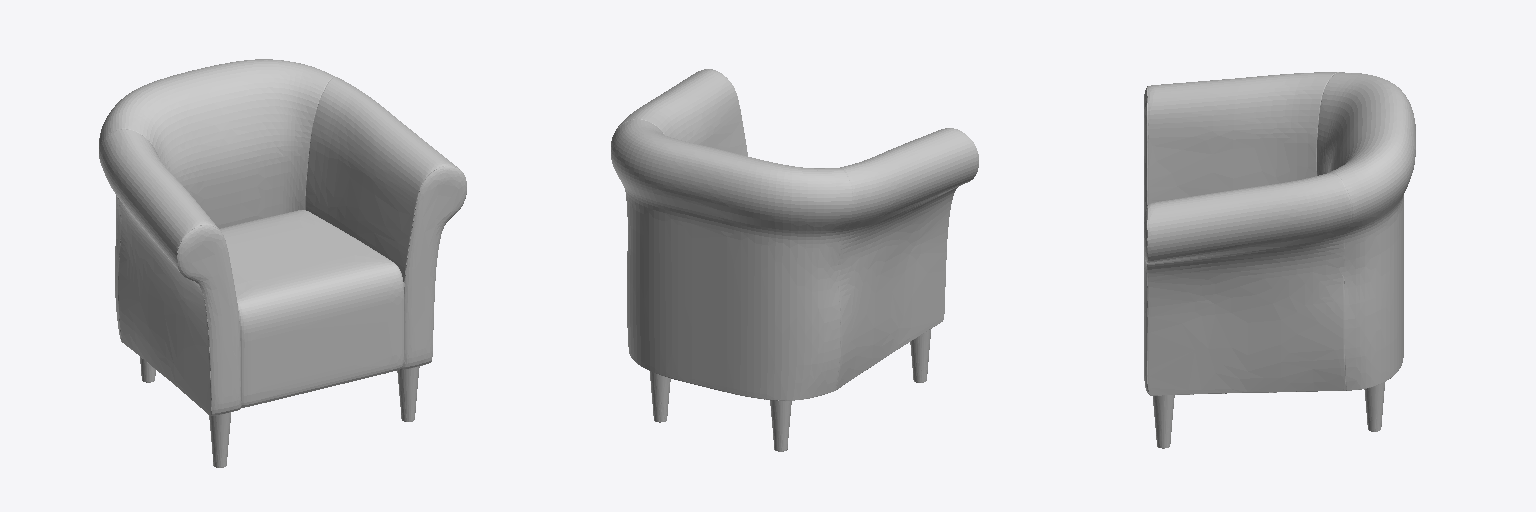
File: LOON3749_v6_LOD2.obj
3 views of the same model, side by side, from view 1: azimuth 30°, elevation 25°; view 2: azimuth 150°, elevation 25°; view 3: azimuth 270°, elevation 25° (orthographic).
Visible parts, largest first — view 1: not_clear_obj_0_v6, not_clear_obj_1_v6; view 2: not_clear_obj_0_v6, not_clear_obj_1_v6; view 3: not_clear_obj_0_v6, not_clear_obj_1_v6.
Boxes of the visible parts, box(x1,y1,x2,y2) form: not_clear_obj_0_v6: box(99, 59, 466, 415); not_clear_obj_1_v6: box(140, 357, 419, 467); not_clear_obj_0_v6: box(611, 69, 978, 400); not_clear_obj_1_v6: box(650, 329, 930, 451); not_clear_obj_0_v6: box(1144, 72, 1415, 395); not_clear_obj_1_v6: box(1153, 382, 1384, 448).
Size of the model in its own units: 87.07 by 82.44 by 70.77.